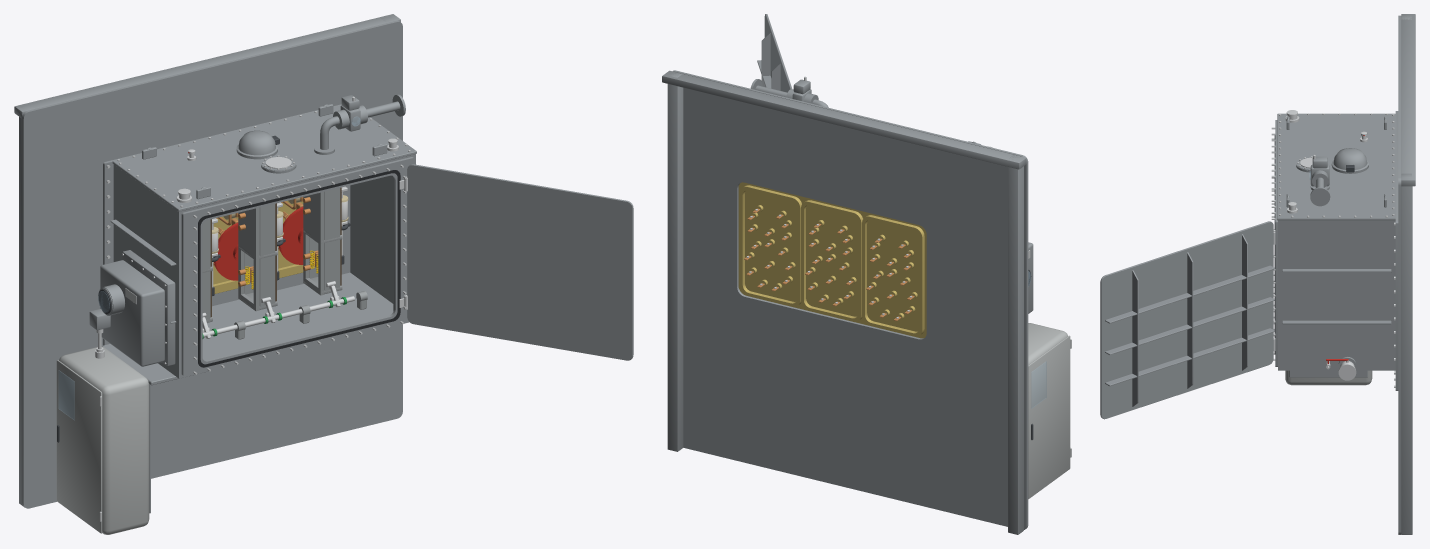
Rendered from hwdk.glb.
3 views of the same model, side by side, from view 1: azimuth 30°, elevation 25°; view 2: azimuth 150°, elevation 25°; view 3: azimuth 270°, elevation 25° (orthographic). The views are drawn at different scales.
Parts seen in each view (by area): view 1: tank, ot-door, ot-box, mdu, ot-top, hwdk-diverter, hwdk-drive, hwdk-selector, hwdk-shaft, pipe-r, hwdk-board, ot-prv (+2 smaller); view 2: tank, hwdk-board, mdu, ot-terminal, ot-door; view 3: ot-door, ot-box, ot-top, tank, mdu, ot-prv, pipe-r, ot-drain, relay.
Part boxes in pixels (x1,y1,x2,y2): tank: (14,14,402,508); ot-door: (399,164,633,360); ot-box: (103,104,415,378); mdu: (56,344,205,534); ot-top: (112,105,416,211); hwdk-diverter: (202,187,342,322); hwdk-drive: (89,250,175,366); hwdk-selector: (214,207,303,280); hwdk-shaft: (202,291,367,339); pipe-r: (314,94,405,154); hwdk-board: (213,200,303,293); ot-prv: (236,130,279,159); tank: (662,70,1028,534); hwdk-board: (738,182,926,338); mdu: (1028,323,1071,498); ot-terminal: (744,205,917,321); ot-door: (757,14,792,92); ot-door: (1100,221,1275,419); ot-box: (1271,111,1398,390); ot-top: (1277,113,1396,220); tank: (1398,14,1415,534); mdu: (1285,370,1372,385); ot-prv: (1331,148,1368,173); pipe-r: (1310,172,1330,206); ot-drain: (1326,357,1356,380); relay: (1309,155,1329,186).
Bounding box in the file's own units: 3.25 × 2.75 × 2.2.
